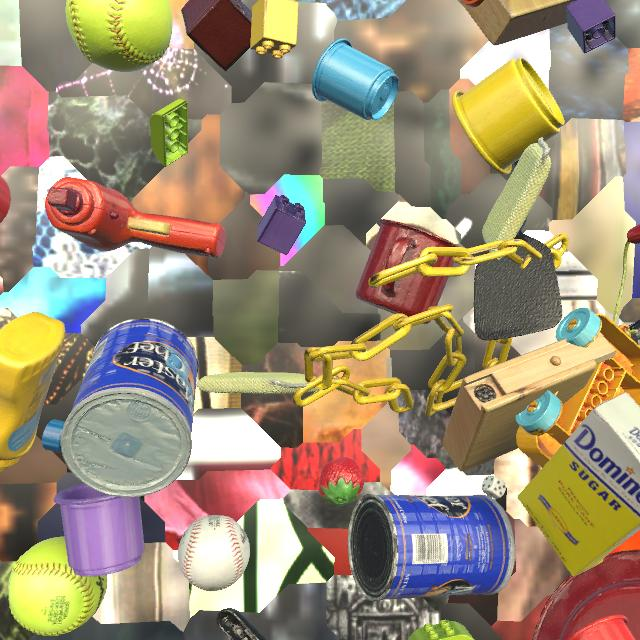ycb_002_master_chef_can: (61, 318, 199, 497), (348, 494, 515, 601)
ycb_004_sugar_box: (517, 392, 640, 576)
ycb_006_mustard_bottle: (0, 312, 65, 472)
ycb_012_strawberry: (319, 457, 364, 506)
